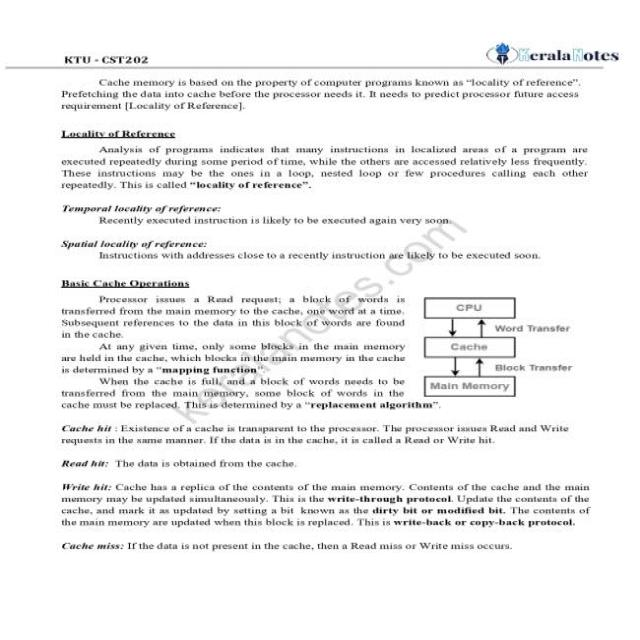Figure Detection - v3 Dataset Version2: (416, 292, 577, 401)
